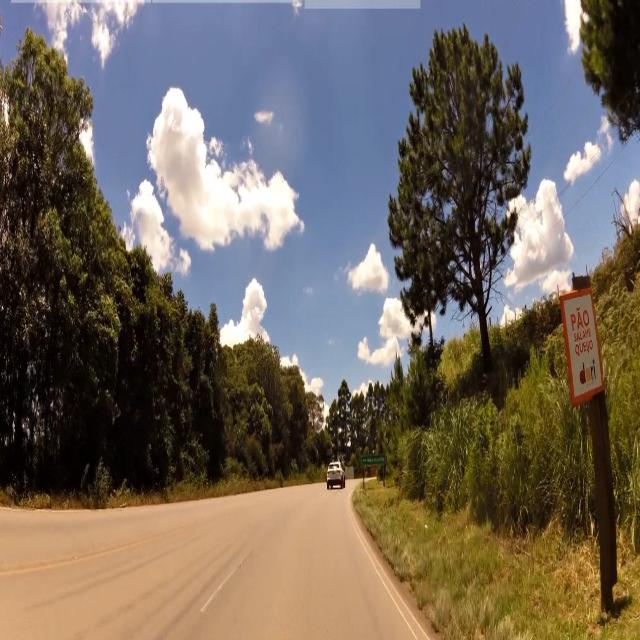I-4: (362, 453, 387, 465)
